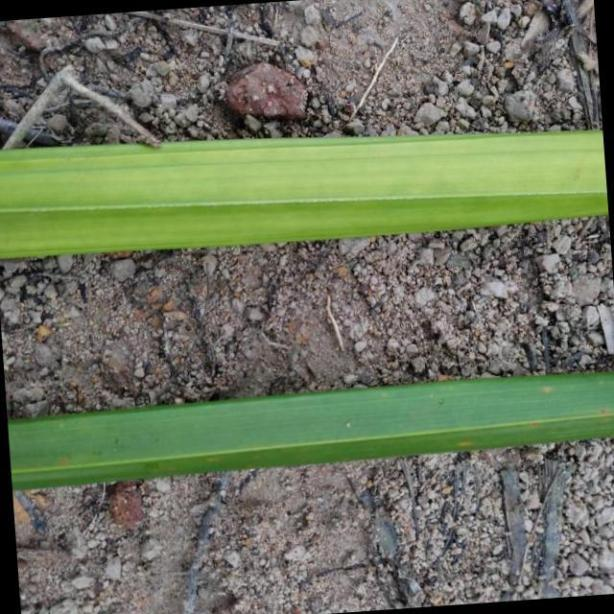nitrogen: (0, 130, 614, 262), (0, 374, 614, 493)
